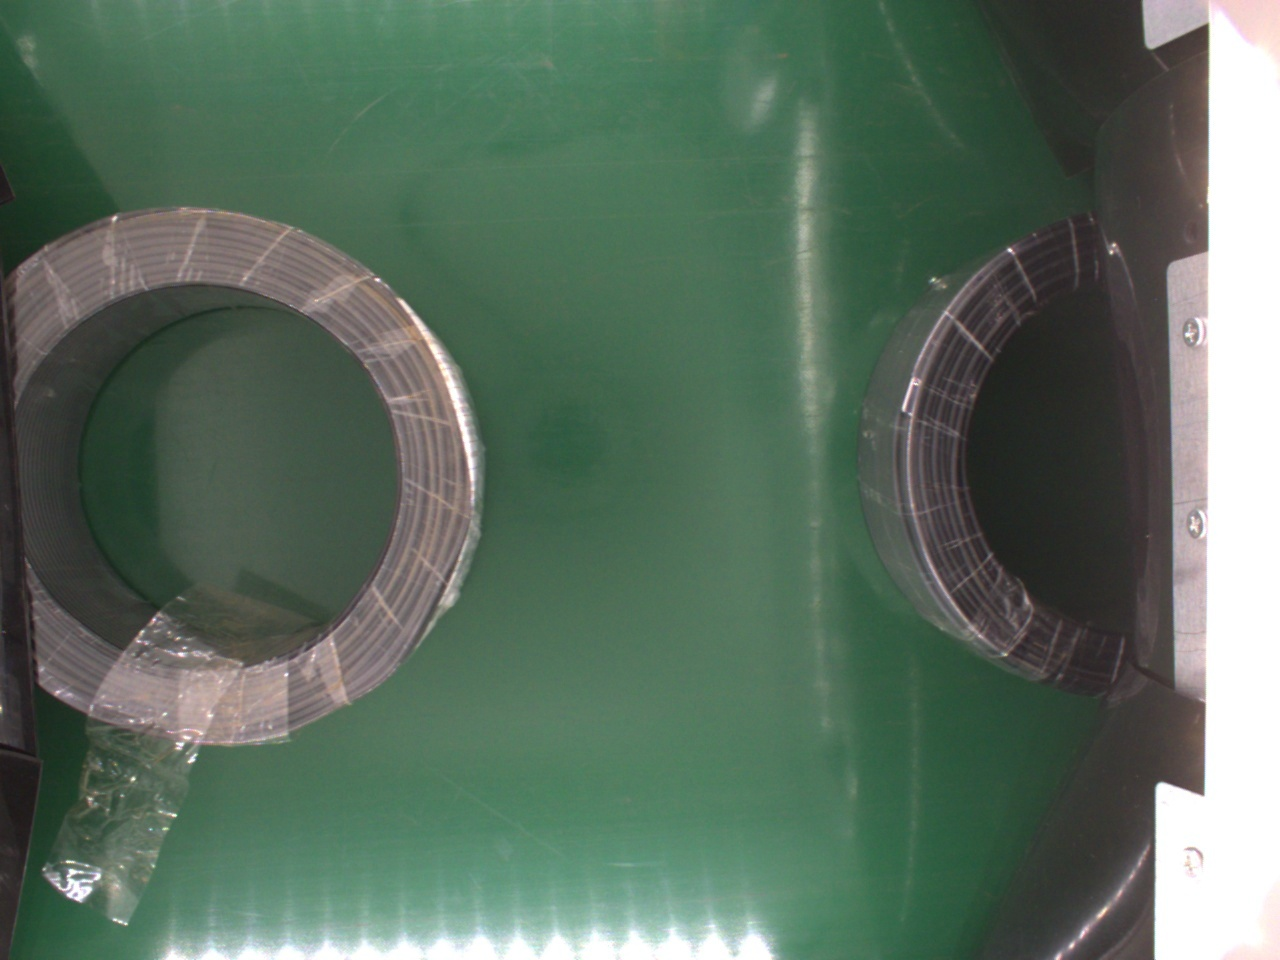black: (21, 207, 481, 756), (856, 210, 1141, 700)
